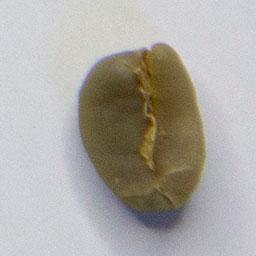premium: (73, 40, 211, 216)
